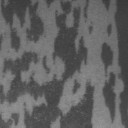red iron: (0, 0, 94, 128), (100, 0, 128, 128), (88, 26, 94, 34), (0, 34, 2, 52)
